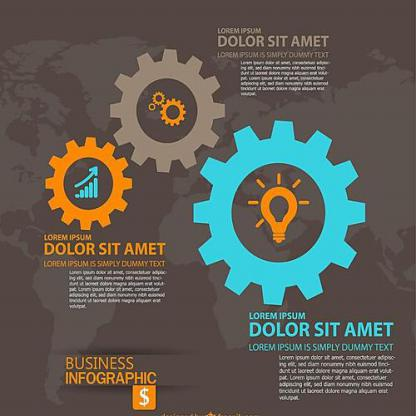FOD: (191, 117, 368, 309), (108, 49, 224, 175), (42, 137, 134, 231)
